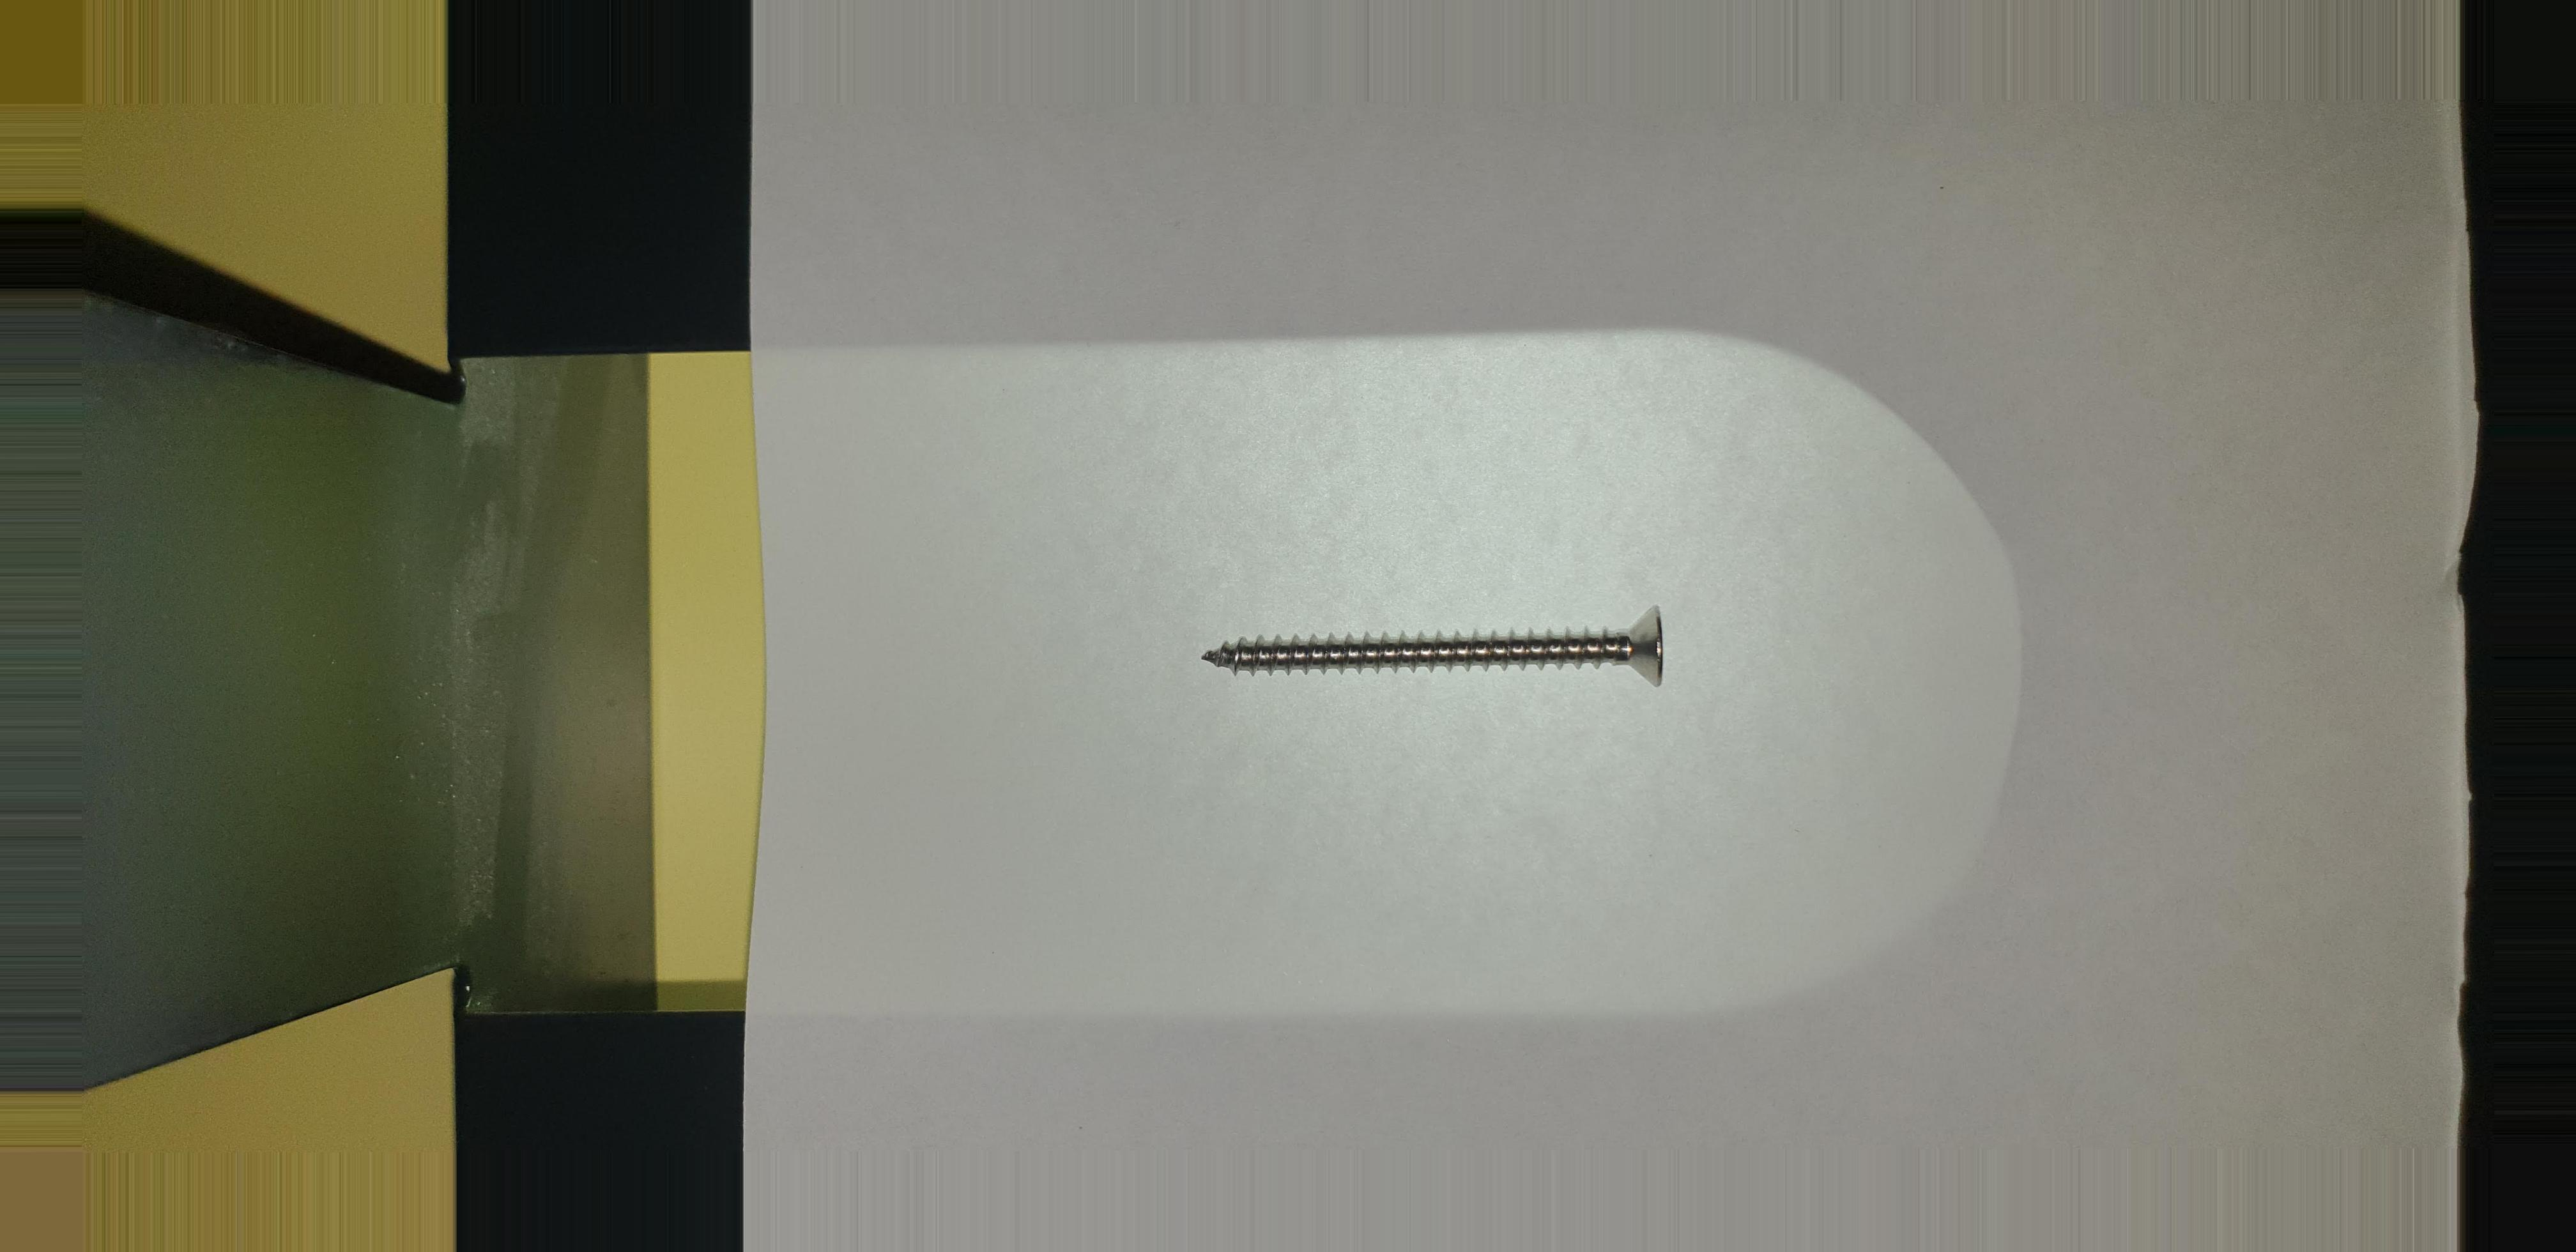fastener: (1111, 552, 1778, 774)
